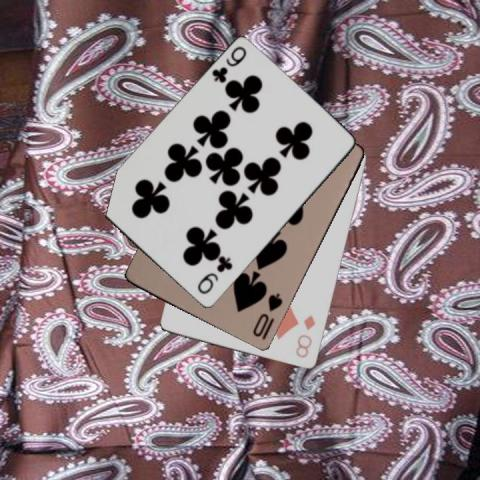10s: (249, 290, 285, 338)
8d: (292, 313, 316, 360)
9c: (194, 255, 235, 296), (209, 44, 248, 85)
